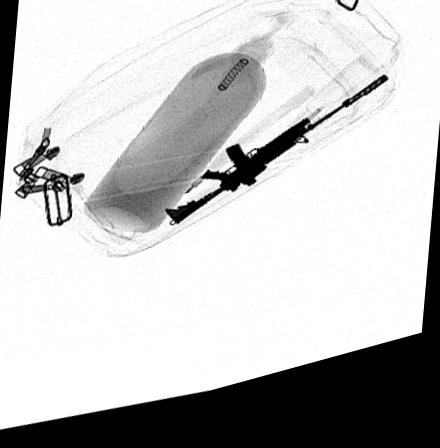Gun: (164, 95, 389, 234)
